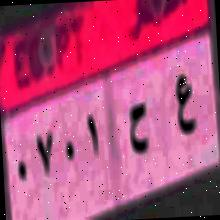0: (62, 135, 78, 168), (16, 153, 29, 184)
1: (86, 107, 101, 165)
7: (34, 126, 54, 180)
7aa: (124, 98, 152, 151)
ain: (171, 71, 198, 143)
